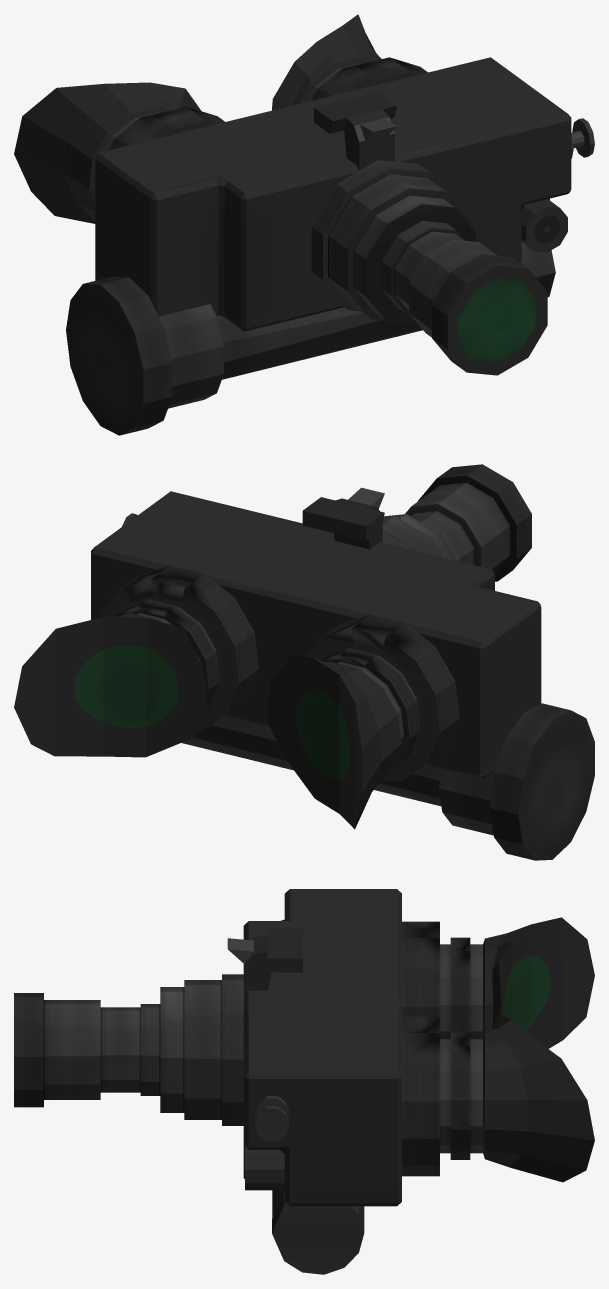
The model's file is NVG_WorldItem.fbx.
3 renders of one model, top to bottom at view 1: azimuth 30°, elevation 25°; view 2: azimuth 150°, elevation 25°; view 3: azimuth 270°, elevation 25°, orthographic. The views are drawn at different scales.
Parts seen in each view (by area): view 1: Cylinder.010; view 2: Cylinder.010; view 3: Cylinder.010.
Part boxes in pixels (x1,y1,x2,y2): Cylinder.010: [14, 14, 594, 435]; Cylinder.010: [14, 464, 594, 860]; Cylinder.010: [14, 889, 594, 1274].
Bounding box in the file's own units: 0.2942 × 0.1716 × 0.3377.
